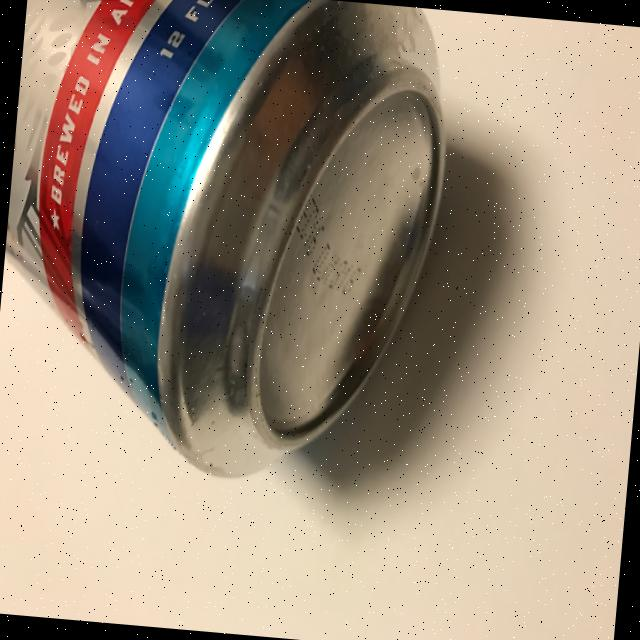metal: (0, 0, 459, 496)
